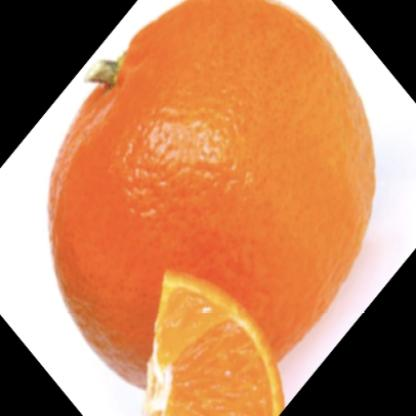fresh: (46, 1, 377, 386)
